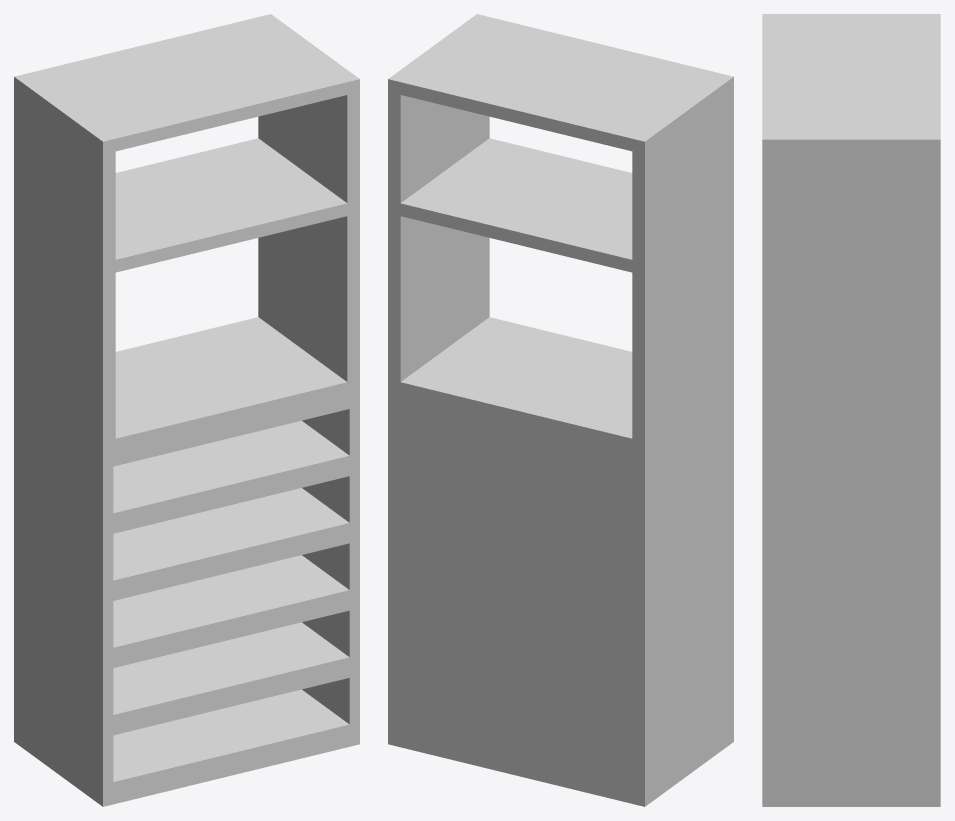
Rendered from drawer_4.glb.
3 views of the same model, side by side, from view 1: azimuth 30°, elevation 25°; view 2: azimuth 150°, elevation 25°; view 3: azimuth 270°, elevation 25° (orthographic).
Parts seen in each view (by area): view 1: Drawer 1; view 2: Drawer 1; view 3: Drawer 1.
Boxes of the visible parts, box(x1,y1,x2,y2) form: Drawer 1: box(14, 14, 359, 806); Drawer 1: box(388, 14, 733, 806); Drawer 1: box(762, 14, 940, 806).
Bounding box in the file's own units: 1 × 2.47 × 0.5998.
Materials: 1 (1 with a texture image).
